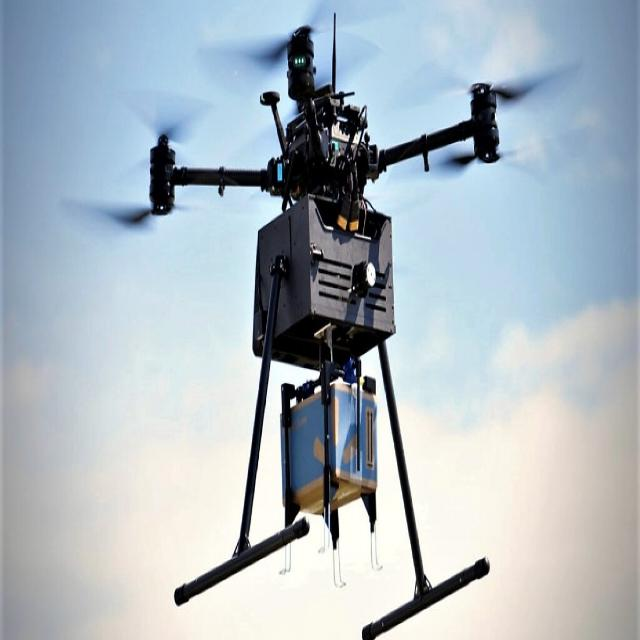drones: (33, 0, 587, 625)
